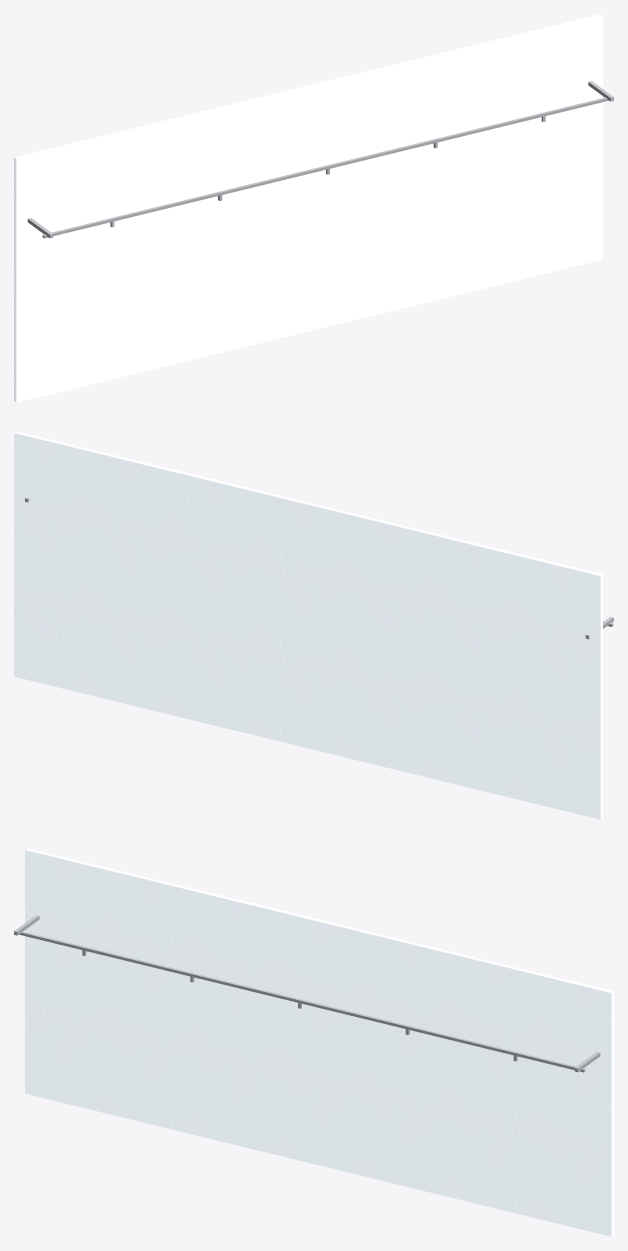
The picture shows the model from 3 angles, top to bottom: view 1: azimuth 30°, elevation 25°; view 2: azimuth 150°, elevation 25°; view 3: azimuth 330°, elevation 25°; orthographic projection.
Visible parts, largest first — view 1: Decor_mirror_wall_rail; view 2: Decor_mirror_wall_rail; view 3: Decor_mirror_wall_rail.
Boxes of the visible parts, left/top/right/bottom form: Decor_mirror_wall_rail: left=14, top=14, right=613, bottom=402; Decor_mirror_wall_rail: left=14, top=431, right=613, bottom=819; Decor_mirror_wall_rail: left=14, top=848, right=613, bottom=1236.
Size of the model in its own units: 6.8 by 2.7 by 0.4999.
Materials: 2 (2 with a texture image).
